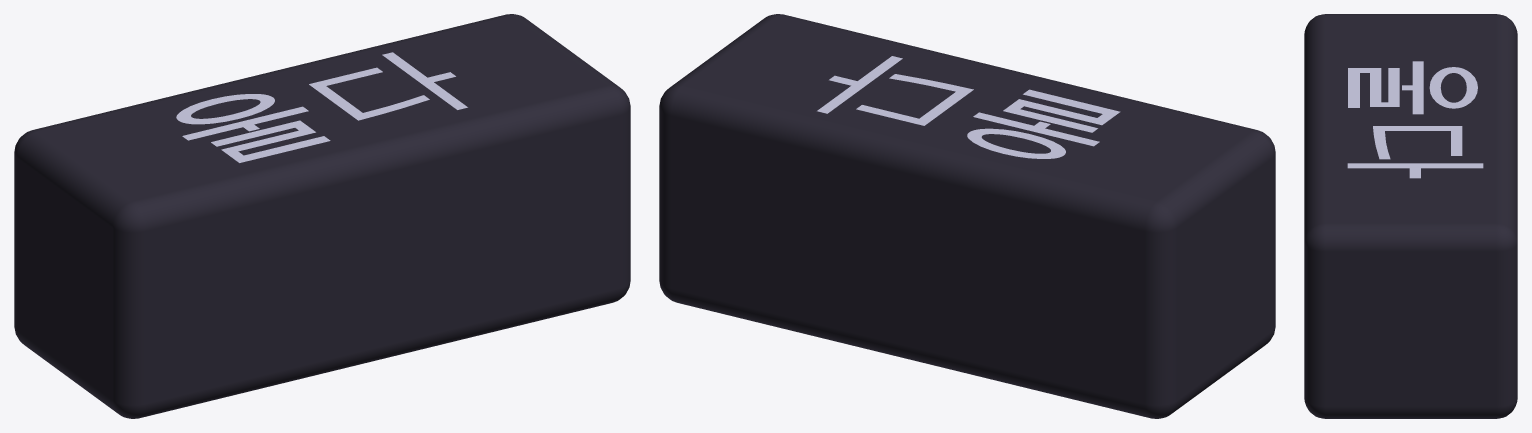
The model's file is cry.glb.
3 views of the same model, side by side, from view 1: azimuth 30°, elevation 25°; view 2: azimuth 150°, elevation 25°; view 3: azimuth 270°, elevation 25° (orthographic). The views are drawn at different scales.
Visible parts, largest first — view 1: Cut, Extrude; view 2: Cut, Extrude; view 3: Cut, Extrude.
Part boxes in pixels (x1,y1,x2,y2): Cut: (14,14,630,418); Extrude: (176,52,467,162); Cut: (659,14,1275,418); Extrude: (817,56,1120,158); Cut: (1304,14,1517,418); Extrude: (1347,61,1483,178).
Bounding box in the file's own units: 5 × 2 × 2.
